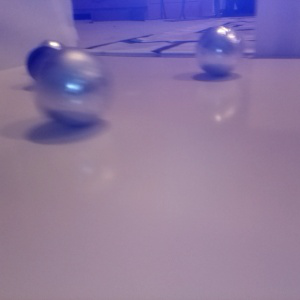alive_ball: (35, 48, 109, 128), (195, 25, 242, 74), (39, 39, 67, 66)
dead_ball: (25, 45, 63, 81)
